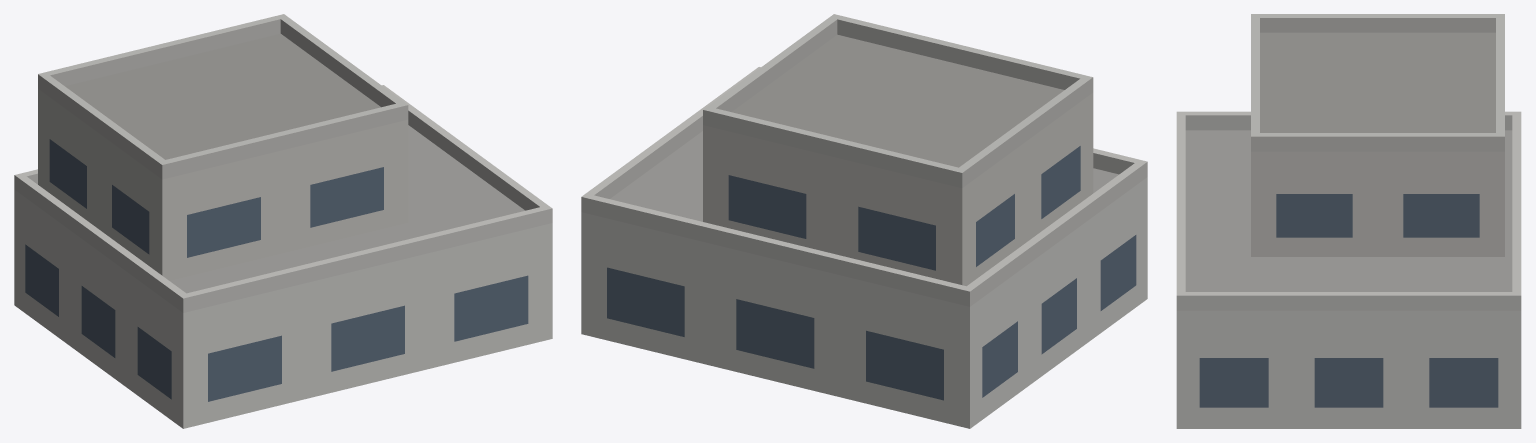
The model's file is house_08_modern_flat.glb.
The picture shows the model from 3 angles, left to right: view 1: azimuth 30°, elevation 25°; view 2: azimuth 150°, elevation 25°; view 3: azimuth 270°, elevation 25°; orthographic projection. The views are drawn at different scales.
Parts seen in each view (by area): view 1: house_08_modern_flat; view 2: house_08_modern_flat; view 3: house_08_modern_flat.
Part boxes in pixels (x1,y1,x2,y2): house_08_modern_flat: (14, 14, 552, 428); house_08_modern_flat: (581, 14, 1147, 428); house_08_modern_flat: (1176, 14, 1521, 428).
Size of the model in its own units: 12.03 by 7.25 by 9.53.
